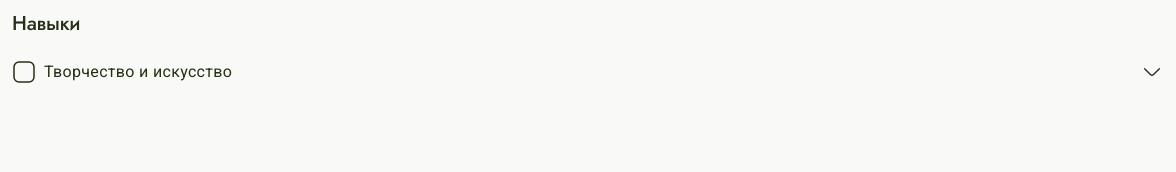
SkillsFilter › сохраняет выбор после сворачивания подкатегорий
This screenshot has width=1176, height=172.
What coordinates should you click on to do the following:
click the button named "Развернуть категорию"
I would click on:
 (1152, 72)
Its box is 1140,60 -> 1164,84.
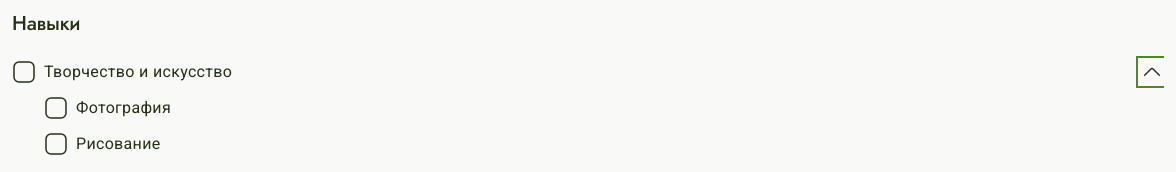
What coordinates should you click on to do the following:
click the checkbox labelled "Фотография"
I would click on:
 (108, 108)
Its box is 44,96 -> 171,120.
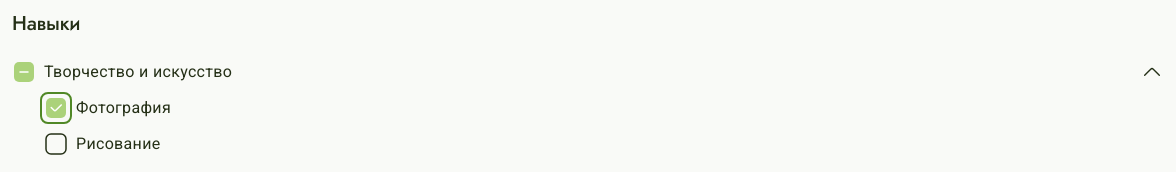
What coordinates should you click on to do the following:
click the button named "Свернуть категорию"
I would click on:
 (1152, 72)
Its box is 1140,60 -> 1164,84.
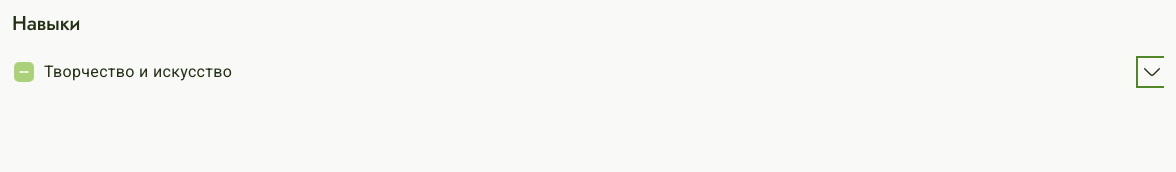
What coordinates should you click on to do the following:
click the button named "Развернуть категорию"
I would click on:
 (1152, 72)
Its box is 1140,60 -> 1164,84.
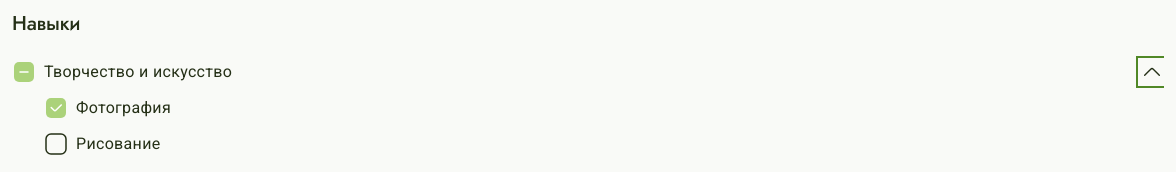
Expected: the checkbox labelled "Фотография" is checked, 44,96 -> 171,120
